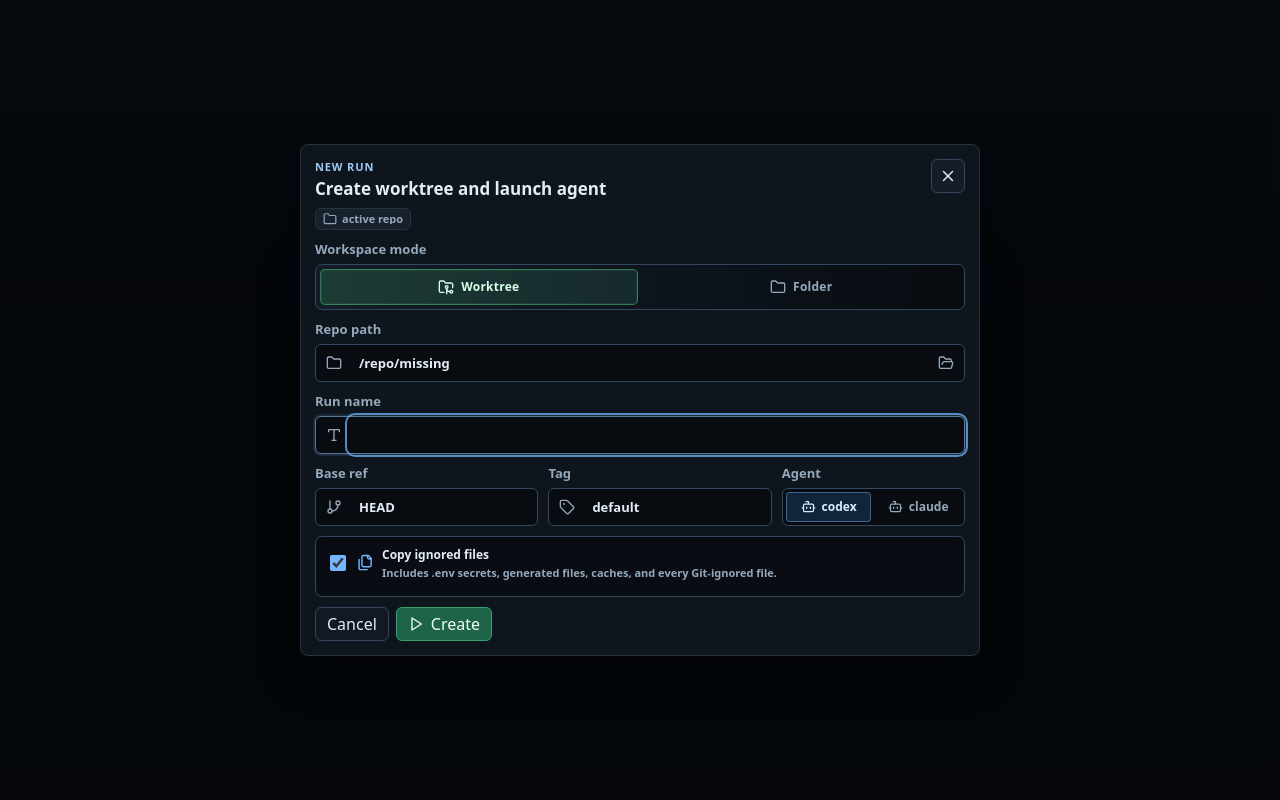
Test: CreateRunModal › blocks creation when the ignored-file preview fails
This screenshot has width=1280, height=800.
Type "blocked-run" into the field labelled "Run name" at (656,435), box [349,417,964,453]
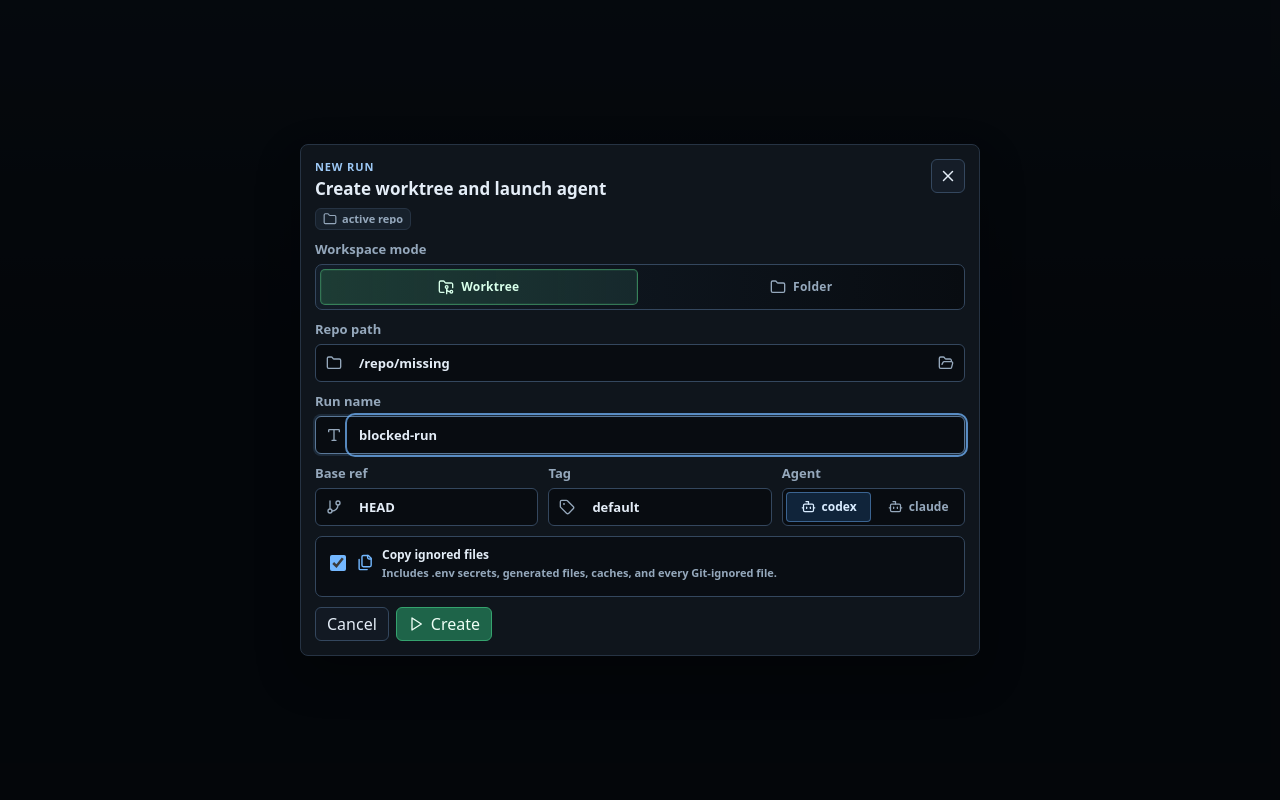
Click the button "Create" at (444,624), box [396,607,492,641]
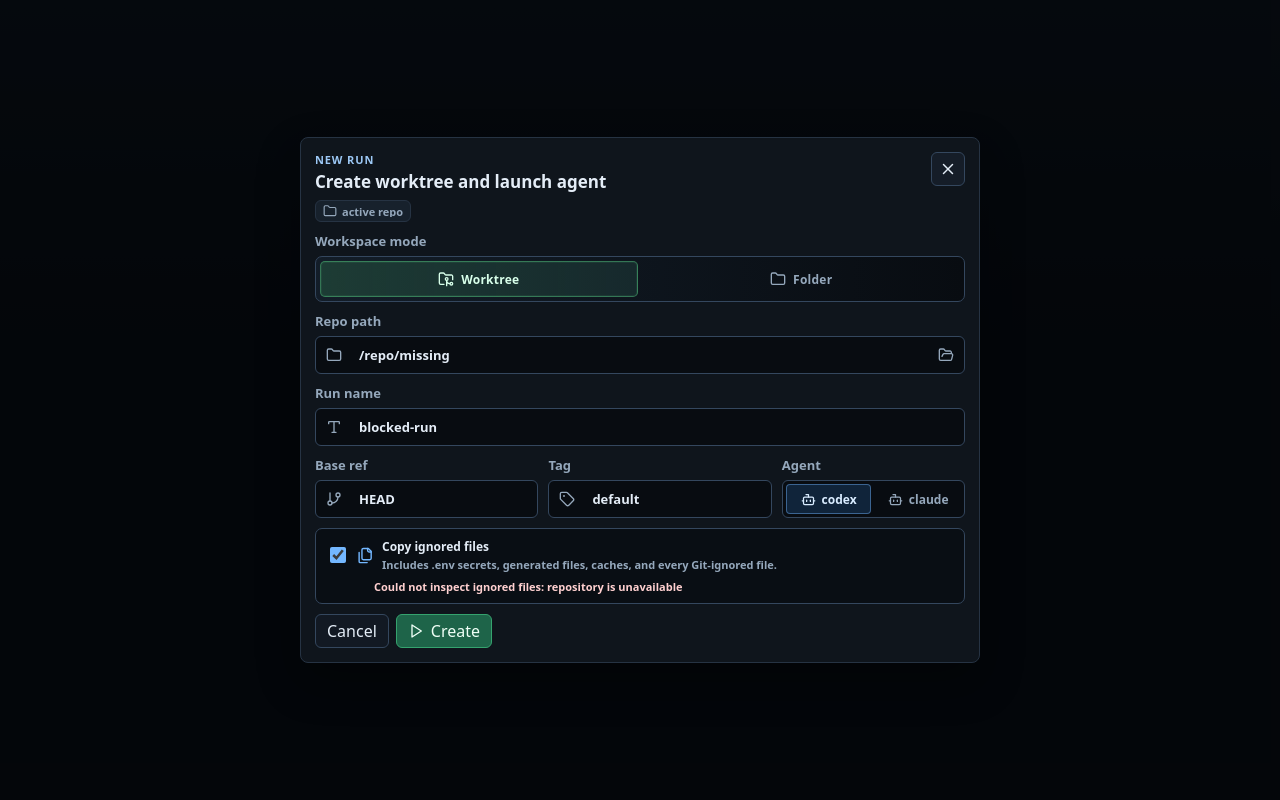
Expected: the text "Could not inspect ignored files: repository is unavailable" is shown, [374,579,682,594]
